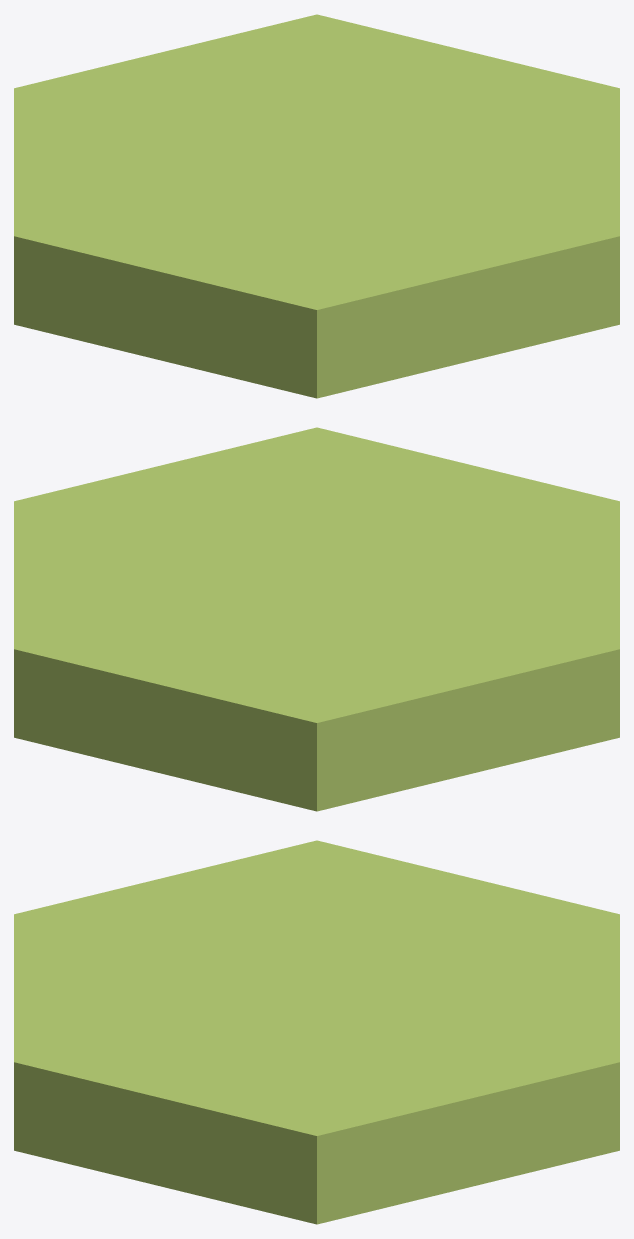
File: hexagon  land.fbx
3 renders of one model, top to bottom at view 1: azimuth 30°, elevation 25°; view 2: azimuth 150°, elevation 25°; view 3: azimuth 270°, elevation 25°, orthographic.
Visible parts, largest first — view 1: pCylinder4; view 2: pCylinder4; view 3: pCylinder4.
Part boxes in pixels (x1=…): pCylinder4: x1=14, y1=14, x2=619, y2=398; pCylinder4: x1=14, y1=427, x2=619, y2=811; pCylinder4: x1=14, y1=840, x2=619, y2=1224.
Bounding box in the file's own units: 791 × 110 × 685.
